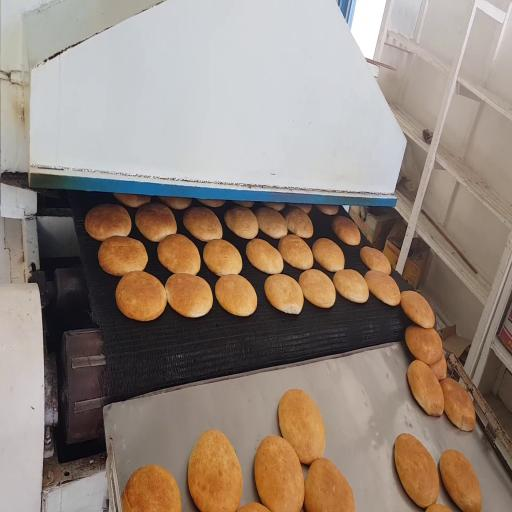bread: (188, 430, 242, 511), (255, 436, 304, 511), (279, 389, 325, 464), (394, 434, 439, 508), (304, 458, 355, 511), (122, 466, 181, 511), (440, 450, 481, 511), (116, 271, 166, 321), (165, 274, 213, 318), (407, 360, 444, 416), (98, 236, 147, 276), (440, 378, 475, 431), (215, 275, 257, 316), (85, 204, 131, 241), (158, 234, 200, 274), (135, 202, 177, 242), (265, 274, 303, 314), (405, 326, 443, 365), (203, 239, 242, 275), (299, 269, 335, 308), (246, 238, 283, 274), (183, 207, 222, 241), (401, 291, 435, 329), (278, 235, 313, 270), (365, 271, 400, 306), (333, 269, 369, 303), (224, 206, 258, 239), (312, 238, 344, 272), (256, 207, 287, 238), (284, 207, 313, 238), (332, 216, 360, 246), (360, 247, 391, 274), (114, 193, 150, 208), (430, 354, 447, 381), (159, 197, 191, 210), (239, 503, 269, 511), (316, 205, 338, 215), (288, 204, 311, 213), (198, 200, 225, 207), (426, 504, 451, 511), (264, 203, 285, 211), (234, 202, 254, 207)
